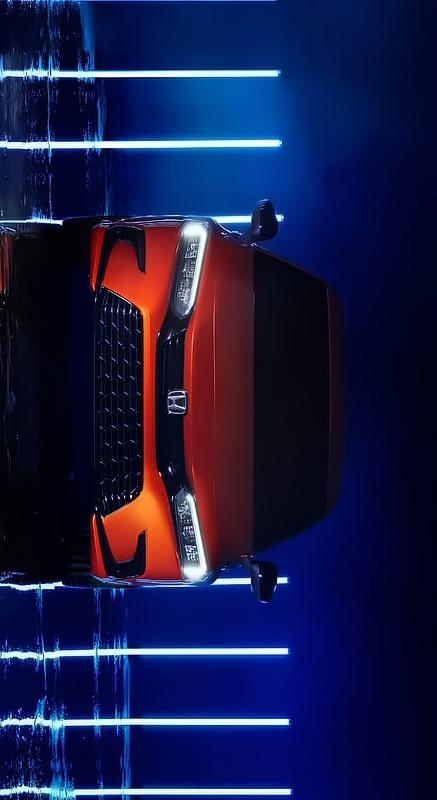Car hood: (179, 213, 261, 580)
Front bumper: (65, 206, 132, 597)
Headlight - -L-: (169, 488, 209, 581)
Headlight - -R-: (164, 219, 213, 322)
Side mirror - -L-: (244, 556, 283, 605)
Side mirror - -R-: (246, 198, 283, 251)
